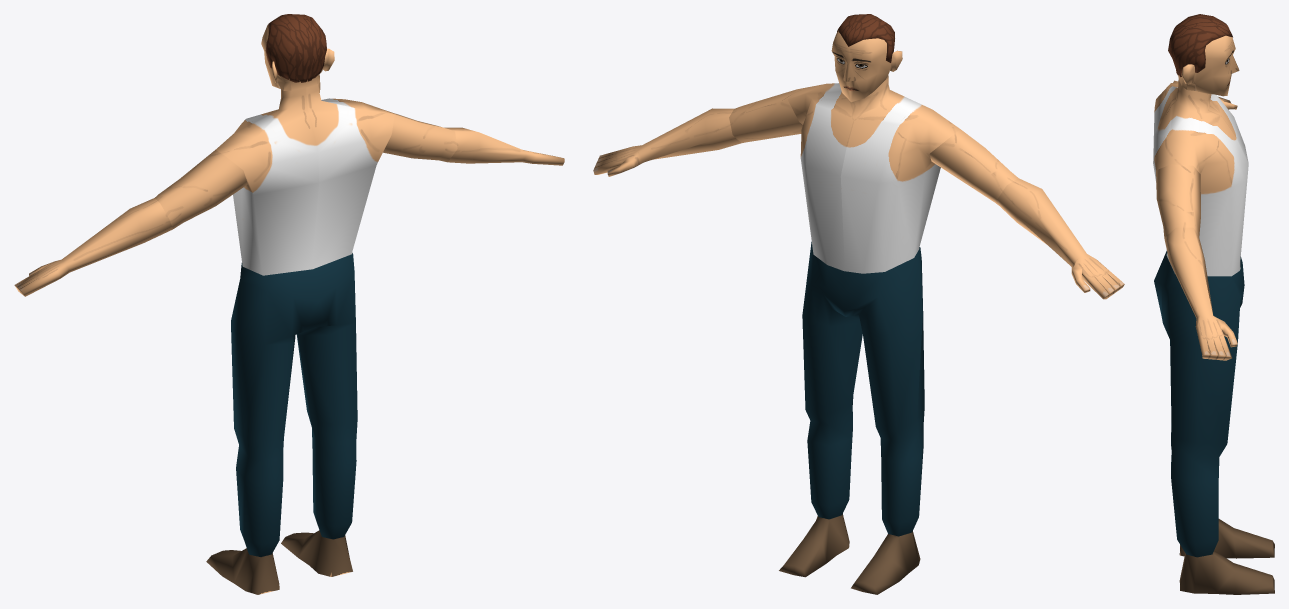
Rendered from Bobby001.fbx.
3 views of the same model, side by side, from view 1: azimuth 30°, elevation 25°; view 2: azimuth 150°, elevation 25°; view 3: azimuth 270°, elevation 25° (orthographic). The views are drawn at different scales.
Visible parts, largest first — view 1: Skin, pants, Hair.001; view 2: Skin, pants, Hair.001; view 3: Skin, pants, Hair.001.
Boxes of the visible parts, x1,y1,x2,y2 form: Skin: (14,25,564,594); pants: (231,253,357,556); Hair.001: (265,14,326,82); Skin: (593,30,1124,594); pants: (802,242,924,536); Hair.001: (837,14,894,62); Skin: (1153,35,1274,594); pants: (1154,250,1244,557); Hair.001: (1168,14,1232,77).
Bounding box in the file's own units: 329 × 325 × 64.85.
Materials: 3 (3 with a texture image).
